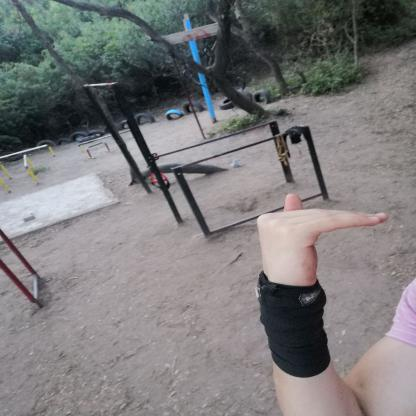KHAA: (241, 186, 404, 300)
